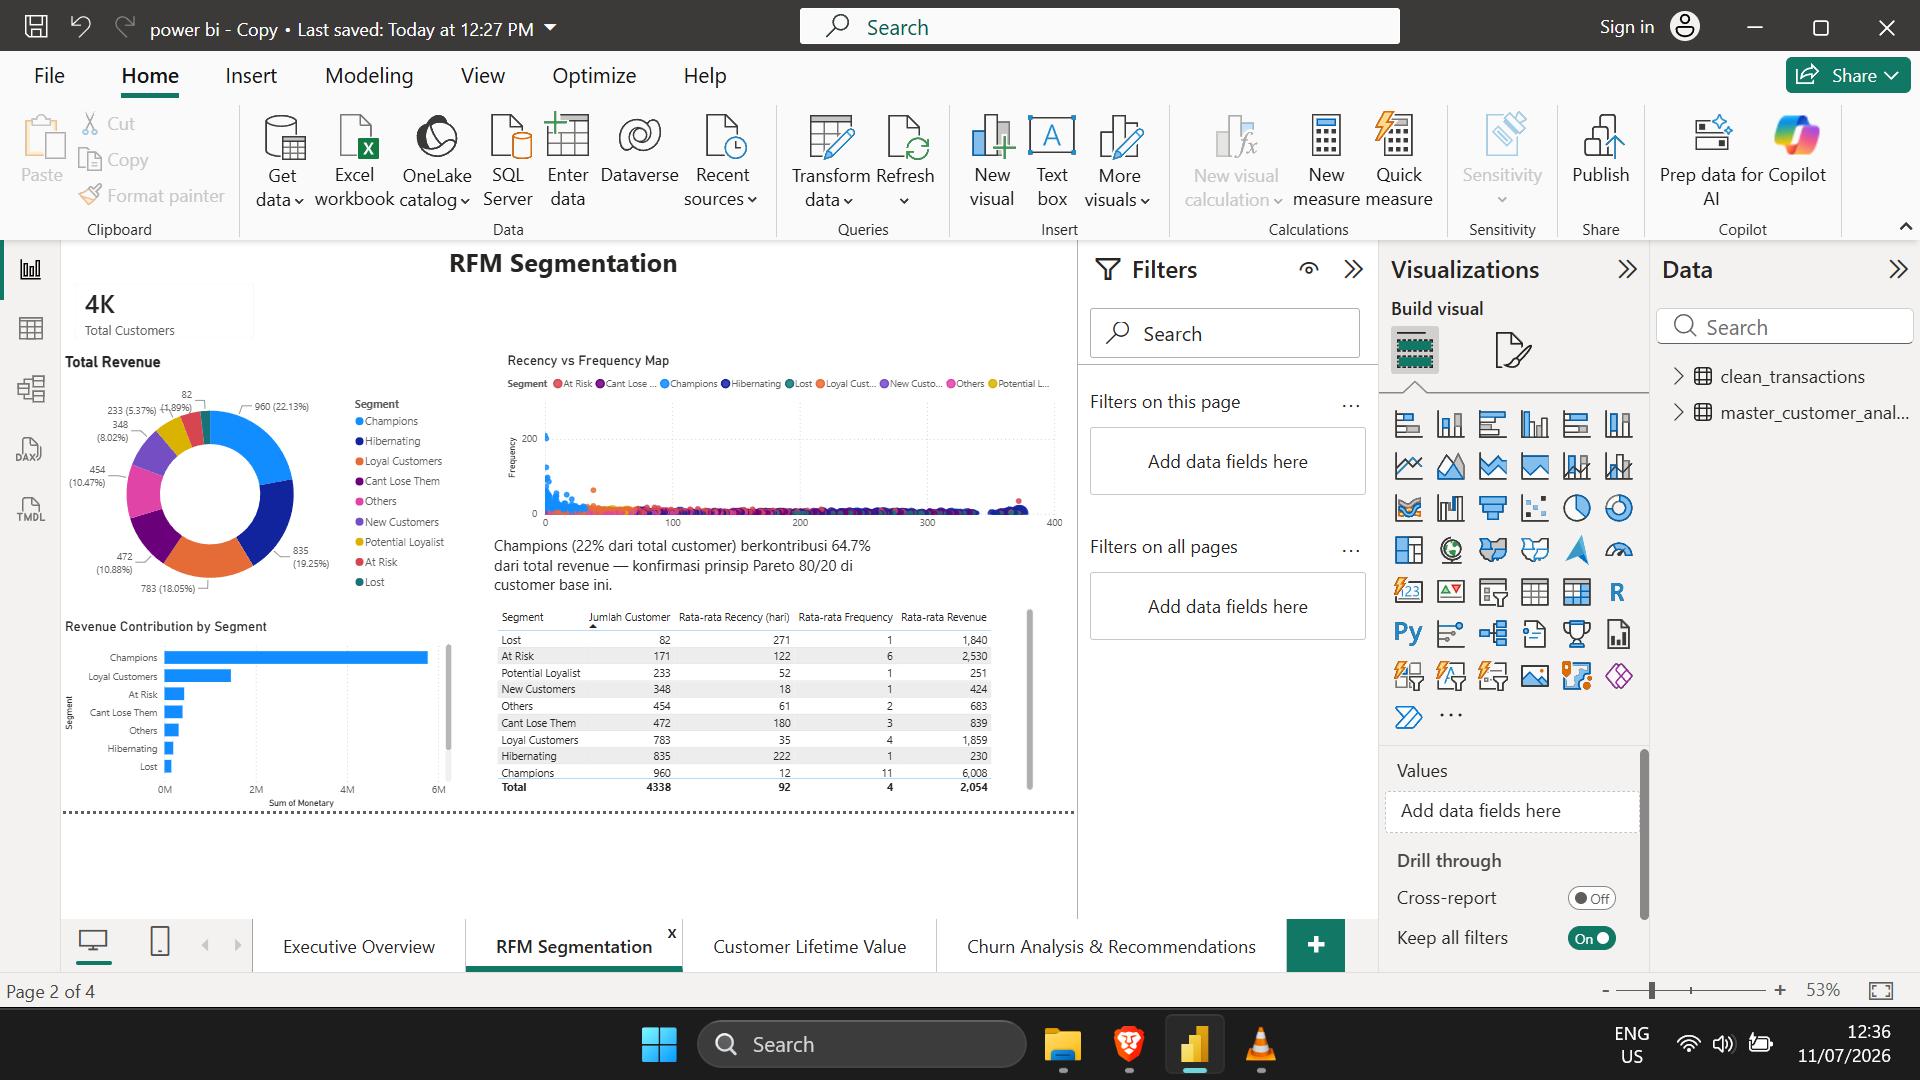

The page's visual inventory and layout, read from the dashboard file:
{"tool":"powerbi","page":{"name":"RFM Segmentation","canvas":[1280,720],"ordinal":1},"visuals":[{"type":"textbox","box":[483.8,0,313.7,73.7],"z":0},{"type":"cardVisual","fields":{"Data":["master_customer_analytics.Total Customers"]},"box":[0,37.8,260.8,103.9],"z":1000},{"type":"donutChart","title":"Total Revenue","fields":{"Category":["master_customer_analytics.Segment"],"Y":["CountNonNull(master_customer_analytics.Monetary)"]},"box":[0,141.7,497,334.5],"z":2000},{"type":"clusteredBarChart","title":"Revenue Contribution by Segment","fields":{"Category":["master_customer_analytics.Segment"],"Y":["Sum(master_customer_analytics.Monetary)"]},"box":[0,476.2,497,243.8],"z":3000},{"type":"scatterChart","title":"Recency vs Frequency Map","fields":{"X":["master_customer_analytics.Recency"],"Y":["master_customer_analytics.Frequency"],"Size":["CountNonNull(master_customer_analytics.Monetary)"],"Series":["master_customer_analytics.Segment"]},"box":[557.5,141.7,708.7,241.9],"z":4000},{"type":"tableEx","fields":{"Values":["master_customer_analytics.Segment","master_customer_analytics.CustomerID","master_customer_analytics.Recency","master_customer_analytics.Frequency","master_customer_analytics.Monetary"]},"box":[544.3,459.2,686,243.8],"z":5000},{"type":"textbox","box":[540.5,366.6,514,92.6],"z":6000}]}

Visuals, with their boxes on the page's 1280x720 design canvas (x1, y1, x2, y2). These are canvas units, not pixel positions in the 1920x1080 screenshot, which may show the page scaled, cropped or inside an application window:
textbox: locate(484, 0, 798, 74)
cardVisual - master_customer_analytics.Total Customers: locate(0, 38, 261, 142)
"Total Revenue" donutChart: locate(0, 142, 497, 476)
"Revenue Contribution by Segment" clusteredBarChart: locate(0, 476, 497, 720)
"Recency vs Frequency Map" scatterChart: locate(558, 142, 1266, 384)
tableEx - master_customer_analytics.Segment x master_customer_analytics.CustomerID: locate(544, 459, 1230, 703)
textbox: locate(540, 367, 1054, 459)
